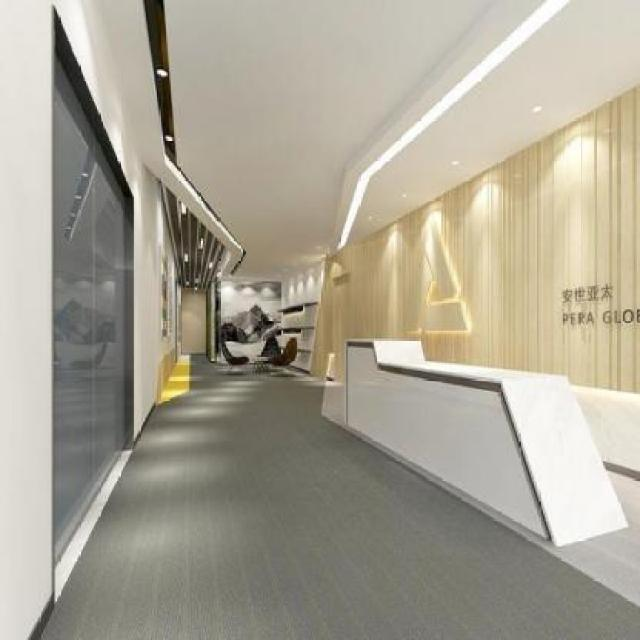frontdesk: (337, 326, 633, 558)
